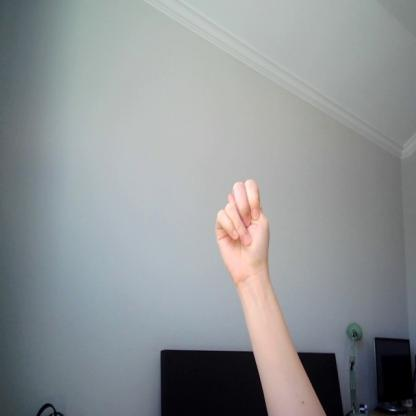N: (216, 177, 270, 280)
